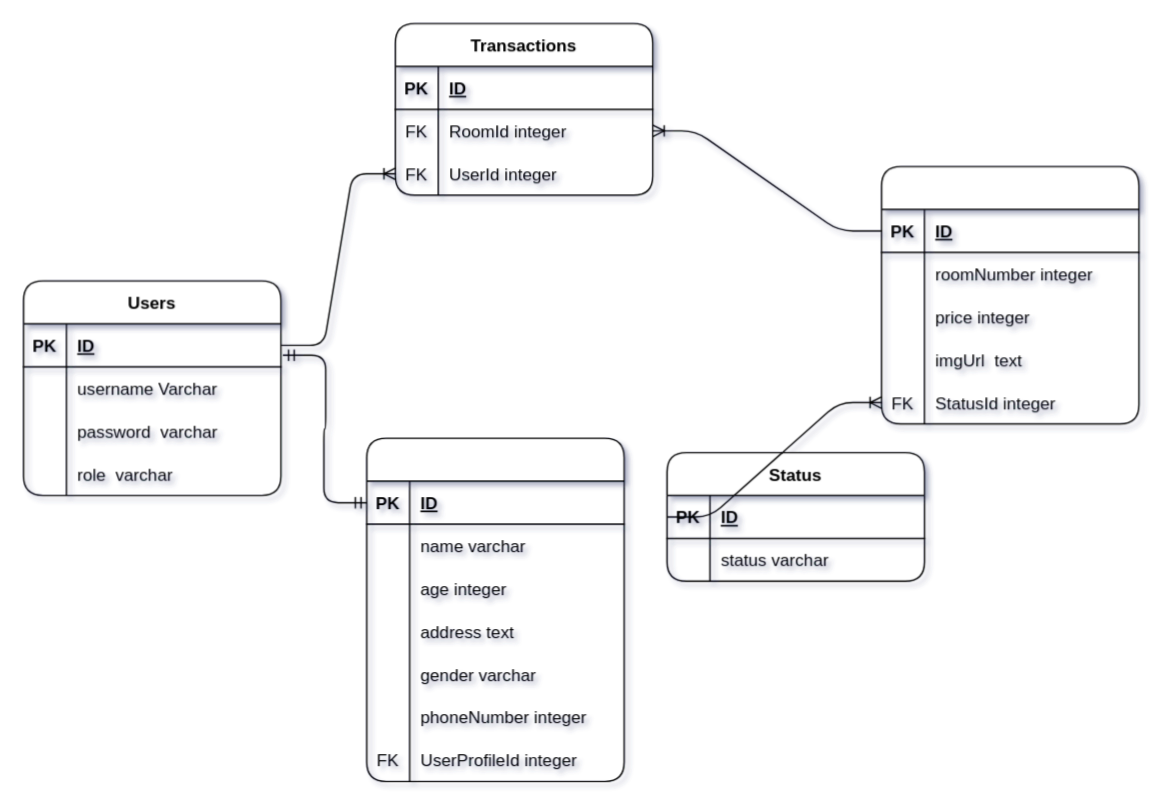
The diagram is 1163 pixels wide and 805 high, and some of its shapes have lost their labels. The box of each missing label's shape, as (x1, y1, x2, y2) in pixels:
Profiles: (365, 437, 624, 781)
Rooms: (880, 165, 1139, 424)
